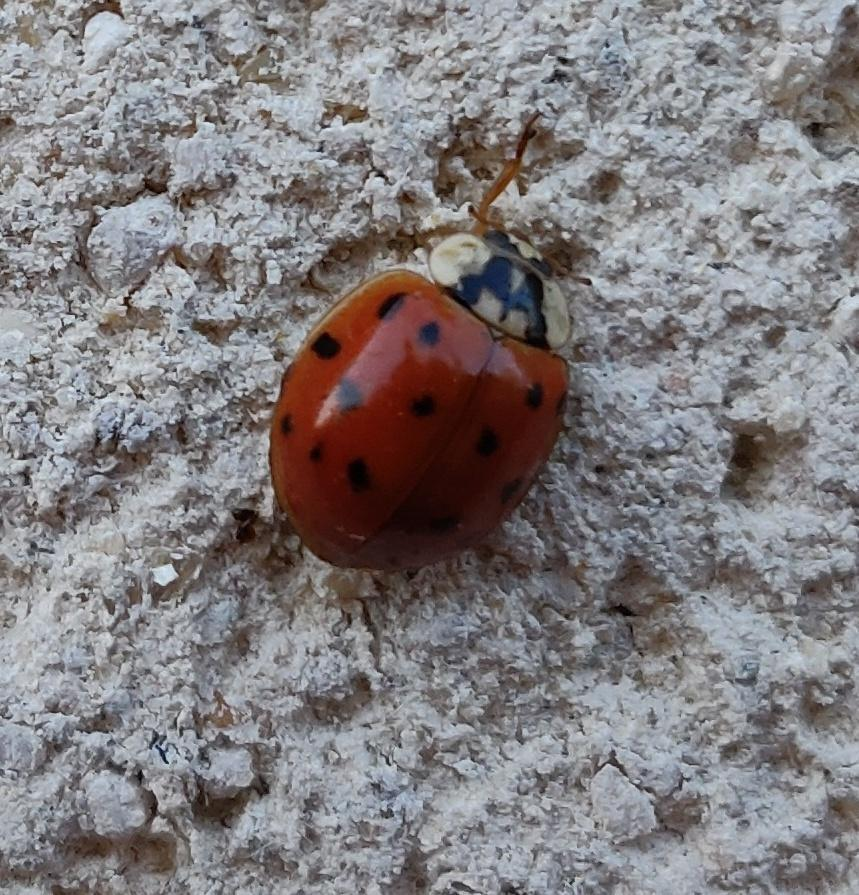ladybug: (264, 199, 586, 581)
